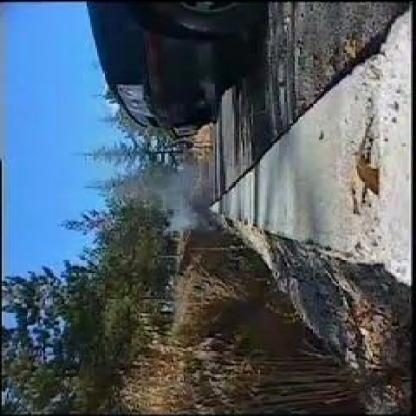-: (162, 184, 224, 232)
